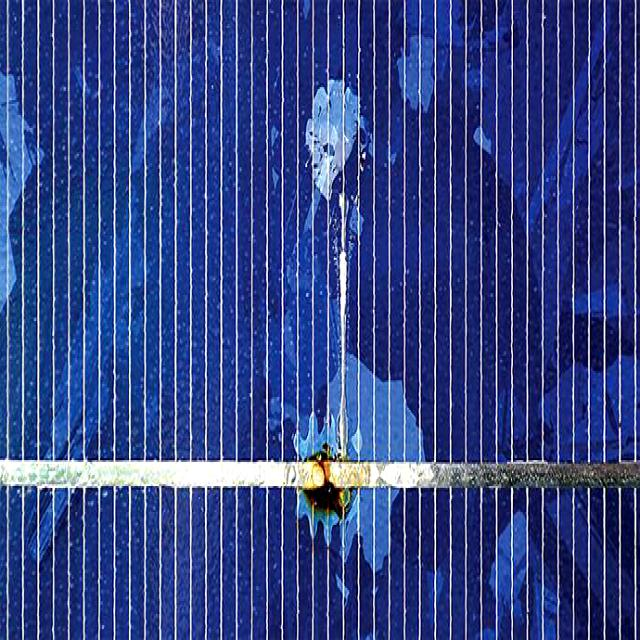shadow: (290, 347, 376, 569)
